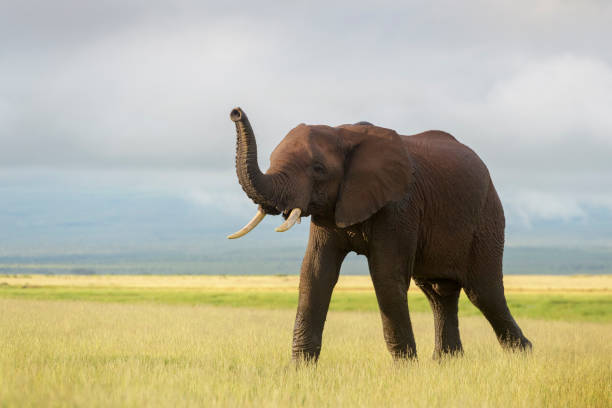africanelephant: (216, 106, 390, 243)
